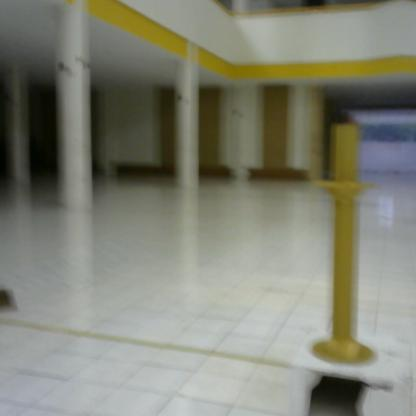pole: (307, 123, 387, 384)
